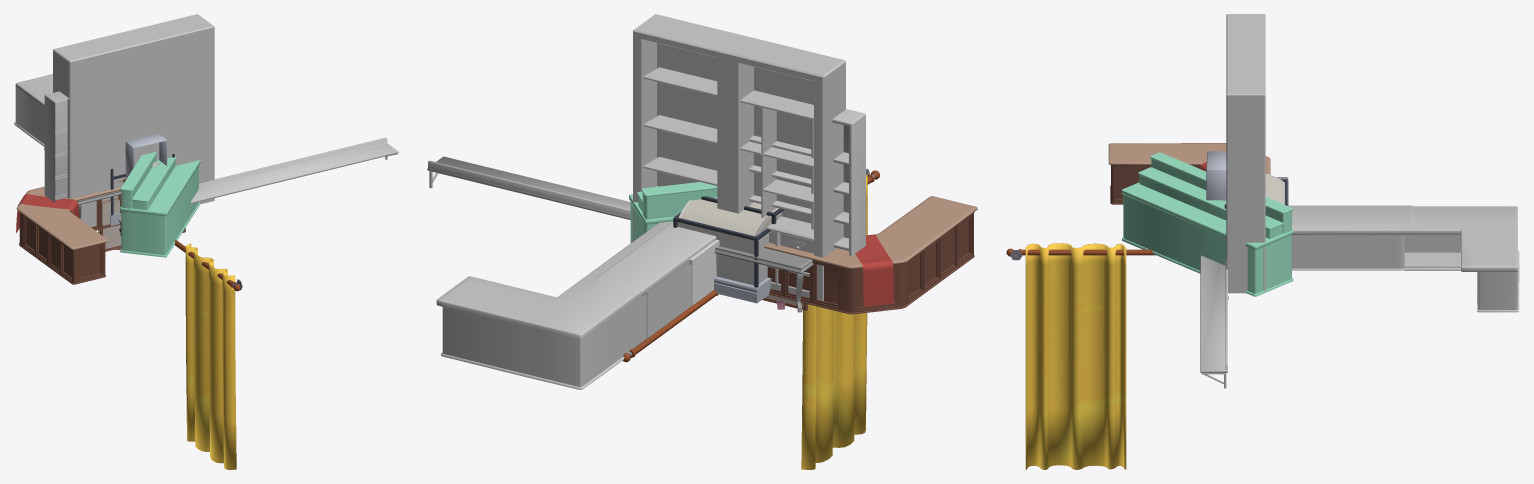
The model's file is shop_furnitures.fbx.
The picture shows the model from 3 angles, left to right: view 1: azimuth 30°, elevation 25°; view 2: azimuth 150°, elevation 25°; view 3: azimuth 270°, elevation 25°; orthographic projection. The views are drawn at different scales.
Visible parts, largest first — view 1: shop_cabinet_of_curiosities, shop_curtain_counter, shop_display_window, shop_counter, shop_bar, shop_bookshelf_big.001, shop_flower_counter, shop_pin_board, shop_fridge; view 2: shop_cabinet_of_curiosities, shop_flower_counter, shop_counter, shop_curtain_counter, shop_flower_counter_small, shop_counter_fridge, shop_bookshelf_big.001, shop_bar, shop_display_window, shop_occult_table_big, shop_drawer_book_medium, shop_bookshelf_medium; view 3: shop_curtain_counter, shop_display_window, shop_cabinet_of_curiosities, shop_flower_counter, shop_flower_counter_small, shop_bar, shop_counter, shop_fridge, shop_counter_fridge.
Boxes of the visible parts, bbox=[...] form: shop_cabinet_of_curiosities: bbox=[53, 14, 214, 227]; shop_curtain_counter: bbox=[44, 148, 242, 469]; shop_display_window: bbox=[120, 151, 200, 257]; shop_counter: bbox=[16, 186, 121, 284]; shop_bar: bbox=[190, 137, 398, 203]; shop_bookshelf_big.001: bbox=[44, 91, 69, 202]; shop_flower_counter: bbox=[14, 74, 52, 146]; shop_pin_board: bbox=[98, 197, 185, 251]; shop_fridge: bbox=[125, 133, 167, 178]; shop_cabinet_of_curiosities: bbox=[633, 14, 845, 301]; shop_flower_counter: bbox=[436, 221, 672, 389]; shop_counter: bbox=[764, 196, 977, 314]; shop_curtain_counter: bbox=[623, 168, 879, 469]; shop_flower_counter_small: bbox=[595, 222, 716, 338]; shop_counter_fridge: bbox=[673, 196, 783, 303]; shop_bookshelf_big.001: bbox=[749, 109, 865, 255]; shop_bar: bbox=[427, 156, 630, 219]; shop_display_window: bbox=[629, 182, 717, 242]; shop_occult_table_big: bbox=[714, 246, 813, 312]; shop_drawer_book_medium: bbox=[689, 240, 719, 305]; shop_bookshelf_medium: bbox=[749, 119, 813, 229]; shop_curtain_counter: bbox=[1006, 243, 1155, 469]; shop_display_window: bbox=[1121, 152, 1293, 296]; shop_cabinet_of_curiosities: bbox=[1226, 14, 1265, 293]; shop_flower_counter: bbox=[1292, 206, 1519, 312]; shop_flower_counter_small: bbox=[1288, 205, 1413, 270]; shop_bar: bbox=[1200, 255, 1227, 388]; shop_counter: bbox=[1108, 143, 1270, 204]; shop_fridge: bbox=[1206, 151, 1226, 200]; shop_counter_fridge: bbox=[1224, 173, 1287, 208].
Size of the model in its own units: 847 by 800 by 901.
